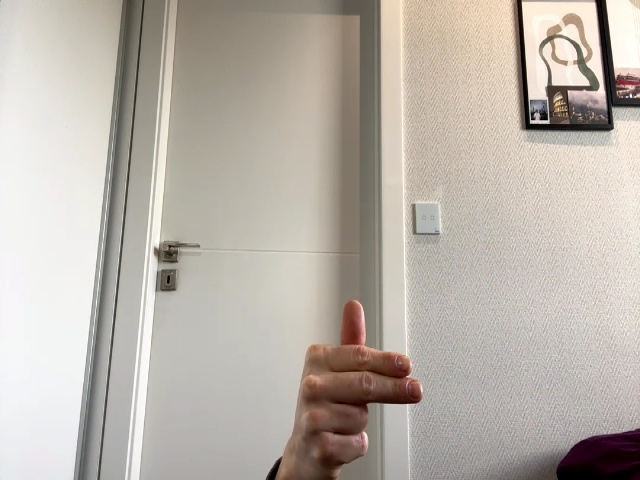N: (291, 300, 424, 465)
